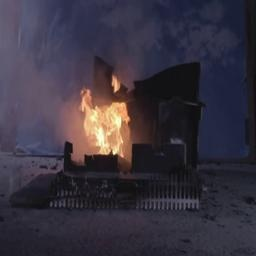fire: (79, 74, 137, 161)
smoke: (0, 0, 80, 99)
